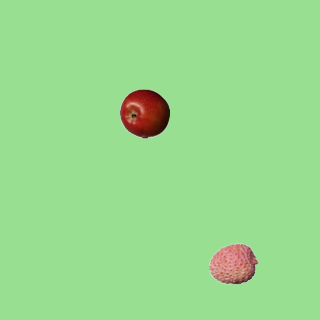Apple Braeburn: (119, 88, 169, 138)
Lychee: (208, 238, 258, 288)
